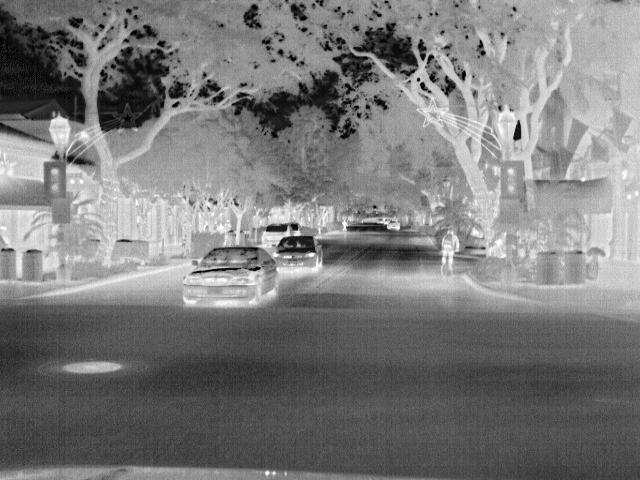car: (180, 244, 278, 306), (270, 237, 320, 274), (260, 223, 289, 248), (385, 218, 402, 232), (289, 221, 302, 238)
person: (438, 228, 459, 265), (0, 225, 14, 246), (198, 218, 211, 232), (222, 220, 234, 234), (209, 220, 221, 232), (340, 220, 349, 232)
